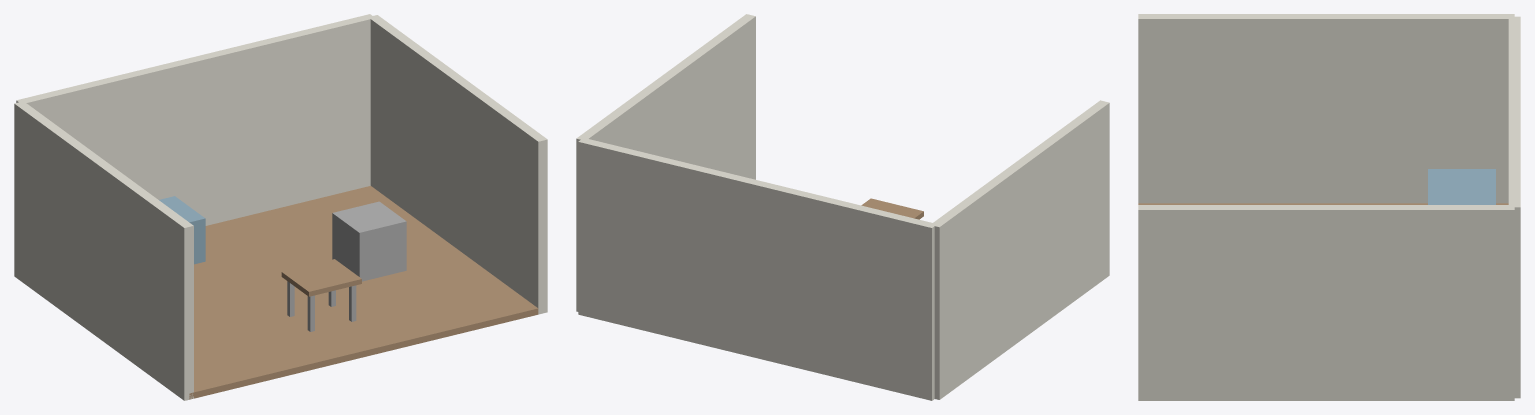
File: apartment_living.glb
The picture shows the model from 3 angles, left to right: view 1: azimuth 30°, elevation 25°; view 2: azimuth 150°, elevation 25°; view 3: azimuth 270°, elevation 25°; orthographic projection. The views are drawn at different scales.
Visible parts, largest first — view 1: back, floor, left, right, chair2, tabletop, sofa; view 2: back, left, right, tabletop; view 3: right, left, back, sofa, floor.
Part boxes in pixels (<box>): back: <box>16,14,374,225</box>; floor: <box>189,186,538,399</box>; left: <box>14,102,193,400</box>; right: <box>370,15,547,314</box>; chair2: <box>332,201,406,281</box>; tabletop: <box>281,259,361,296</box>; sofa: <box>159,196,205,264</box>; back: <box>578,138,936,400</box>; left: <box>931,100,1109,399</box>; right: <box>576,14,755,311</box>; tabletop: <box>861,198,923,219</box>; right: <box>1138,205,1514,400</box>; left: <box>1138,14,1514,203</box>; back: <box>1508,16,1520,398</box>; sofa: <box>1428,169,1495,204</box>; floor: <box>1138,203,1508,204</box>.
Bounding box in the file's own units: 6.16 × 2.8 × 5.08.
